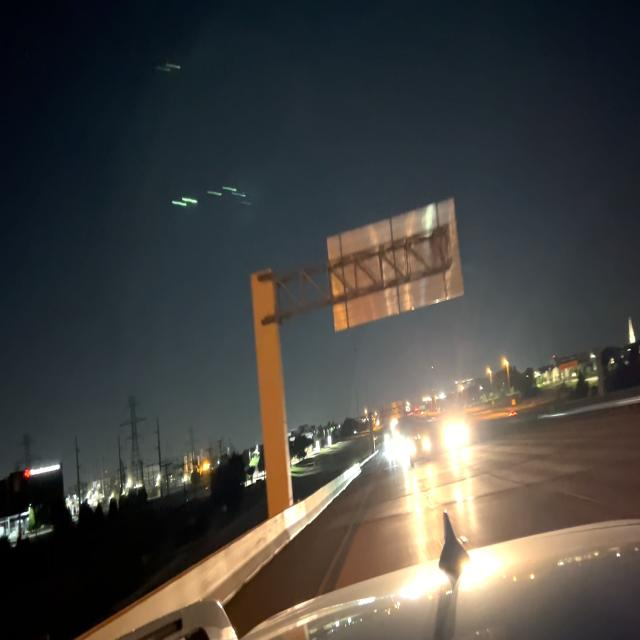back-of-sign: (325, 199, 464, 328)
